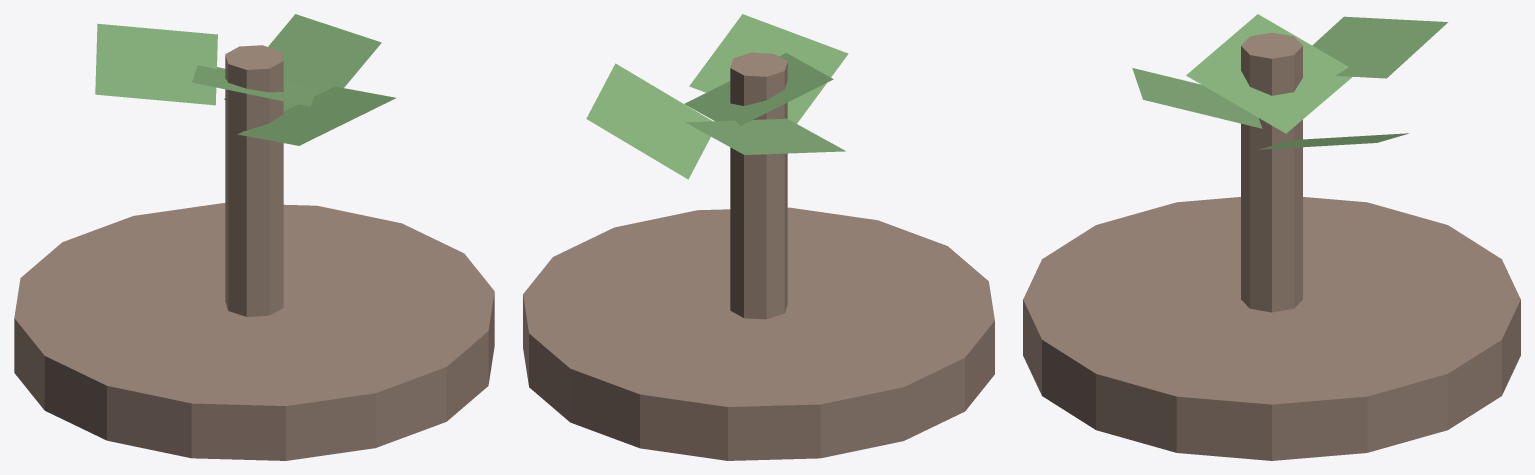
The model's file is maple_sapling.glb.
3 renders of one model, left to right at view 1: azimuth 30°, elevation 25°; view 2: azimuth 150°, elevation 25°; view 3: azimuth 270°, elevation 25°, orthographic. The views are drawn at different scales.
Visible parts, largest first — view 1: MapleSapling_Base, MapleSapling_Trunk, MapleSapling_Leaf_2, MapleSapling_Leaf_1, MapleSapling_Leaf_3, MapleSapling_Leaf_0; view 2: MapleSapling_Base, MapleSapling_Trunk, MapleSapling_Leaf_1, MapleSapling_Leaf_3, MapleSapling_Leaf_2, MapleSapling_Leaf_0; view 3: MapleSapling_Base, MapleSapling_Trunk, MapleSapling_Leaf_0, MapleSapling_Leaf_2, MapleSapling_Leaf_3, MapleSapling_Leaf_1.
Boxes of the visible parts, box(x1,y1,x2,y2) form: MapleSapling_Base: box(14, 203, 494, 460); MapleSapling_Trunk: box(225, 45, 283, 316); MapleSapling_Leaf_2: box(95, 23, 217, 105); MapleSapling_Leaf_1: box(224, 14, 381, 111); MapleSapling_Leaf_3: box(237, 86, 395, 145); MapleSapling_Leaf_0: box(192, 65, 316, 106); MapleSapling_Base: box(523, 207, 994, 460); MapleSapling_Trunk: box(730, 52, 787, 319); MapleSapling_Leaf_1: box(586, 63, 712, 179); MapleSapling_Leaf_3: box(689, 14, 848, 123); MapleSapling_Leaf_2: box(685, 118, 845, 154); MapleSapling_Leaf_0: box(684, 53, 833, 125); MapleSapling_Base: box(1023, 197, 1520, 460); MapleSapling_Trunk: box(1241, 32, 1302, 312); MapleSapling_Leaf_0: box(1186, 14, 1352, 133); MapleSapling_Leaf_2: box(1312, 16, 1448, 78); MapleSapling_Leaf_3: box(1132, 68, 1262, 128); MapleSapling_Leaf_1: box(1258, 133, 1409, 149).
Bounding box in the file's own units: 0.8 × 0.55 × 0.8.
